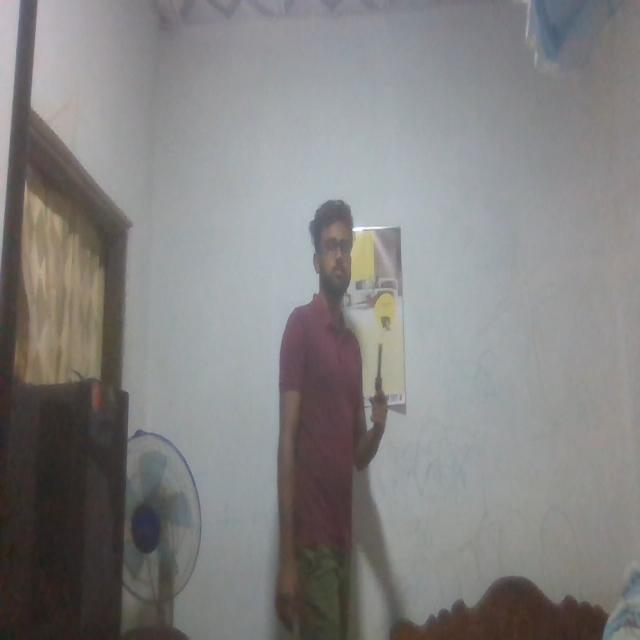Gun_Holder: (371, 338, 389, 439)
Person: (276, 187, 387, 640)
